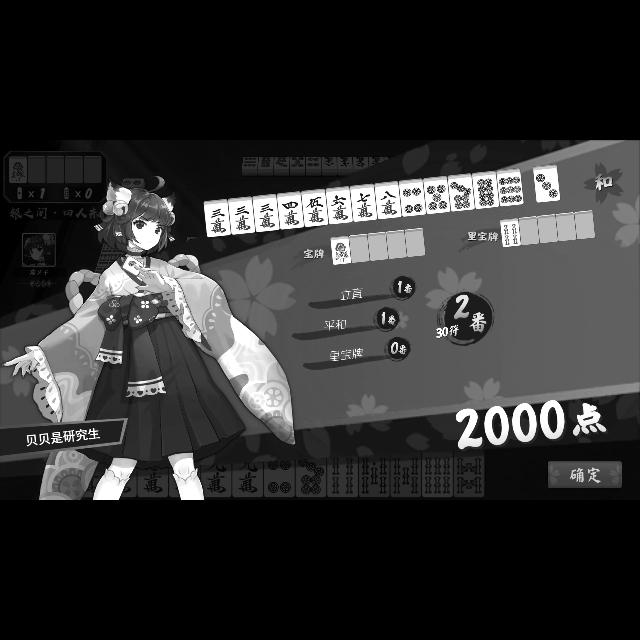1s: (331, 236, 352, 264)
3m: (228, 197, 256, 235), (252, 194, 280, 232), (203, 200, 230, 237)
3p: (534, 165, 560, 203)
4m: (276, 192, 304, 230)
4p: (398, 180, 426, 217)
4s: (500, 218, 520, 248)
5m: (302, 189, 328, 227)
5p: (424, 176, 451, 214)
6m: (326, 186, 352, 224)
7m: (350, 184, 378, 222)
7p: (449, 174, 475, 212)
8m: (374, 182, 402, 218)
8p: (472, 171, 498, 209)
9p: (497, 168, 523, 206)
